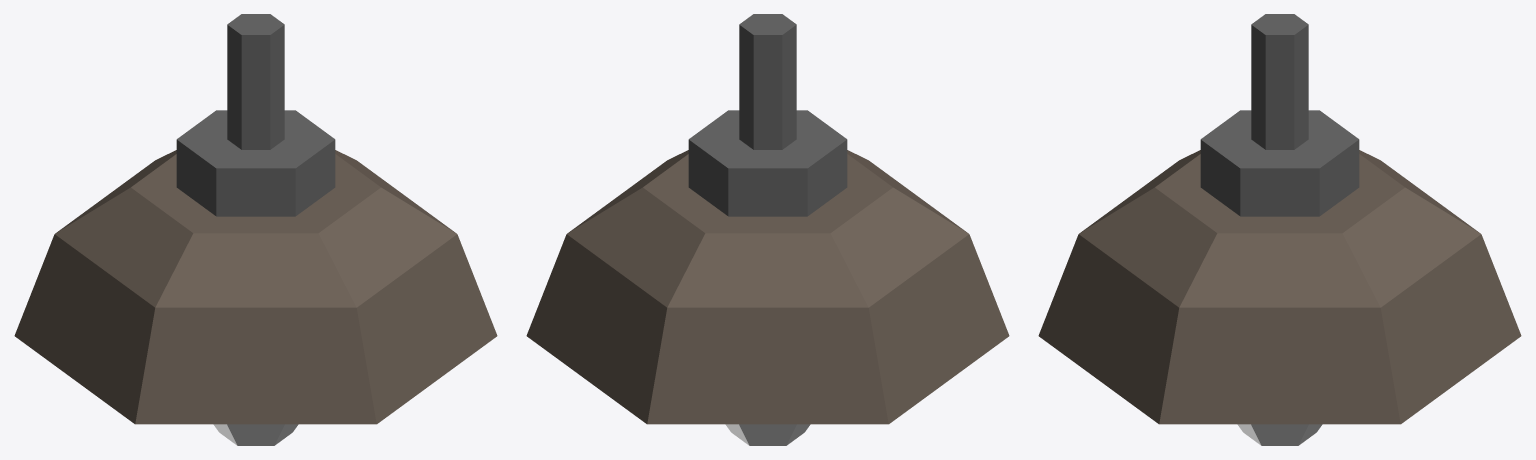
Rendered from CeilingLamp.fbx.
The picture shows the model from 3 angles, left to right: view 1: azimuth 30°, elevation 25°; view 2: azimuth 150°, elevation 25°; view 3: azimuth 270°, elevation 25°; orthographic projection.
Parts seen in each view (by area): view 1: CeilingLamp; view 2: CeilingLamp; view 3: CeilingLamp.
Part boxes in pixels (x1,y1,x2,y2): CeilingLamp: (14, 14, 497, 445); CeilingLamp: (526, 14, 1009, 445); CeilingLamp: (1038, 14, 1521, 445).
Size of the model in its own units: 0.2349 by 0.2527 by 0.2712.
